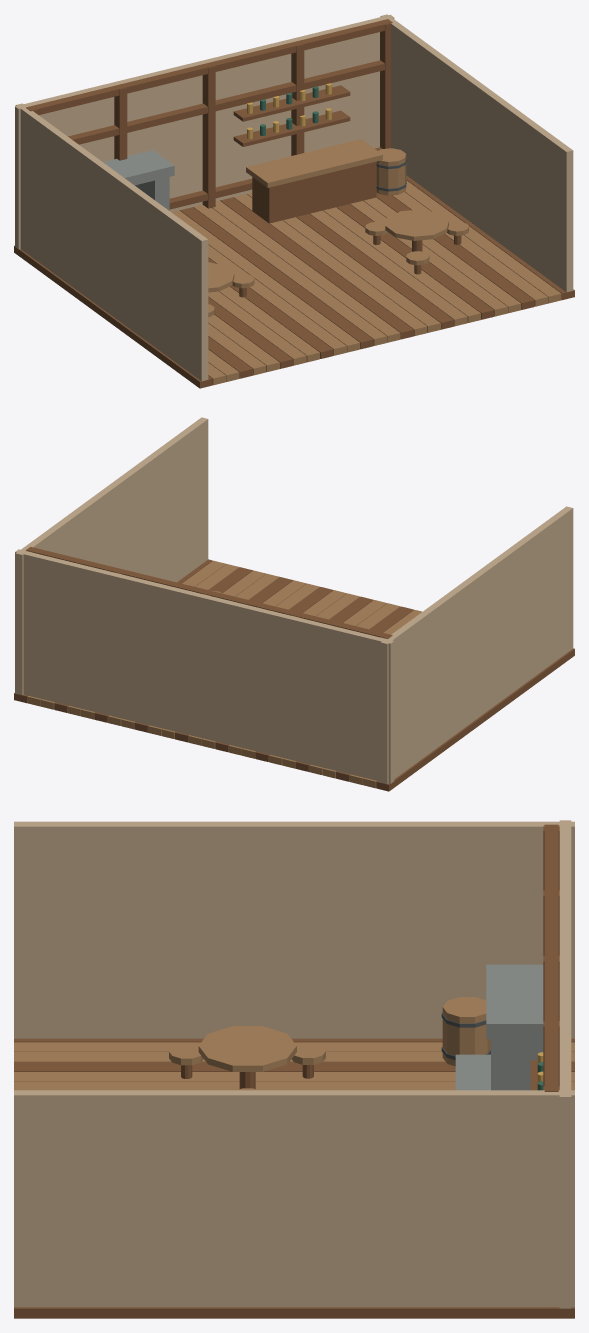
The model's file is tavern.glb.
3 renders of one model, top to bottom at view 1: azimuth 30°, elevation 25°; view 2: azimuth 150°, elevation 25°; view 3: azimuth 270°, elevation 25°, orthographic. The views are drawn at different scales.
Parts seen in each view (by area): view 1: Side wall.004, Side wall.005, Back plaster.002, Bar.002, Wall beam.008, Wall beam.007, Bar counter.002, Floor plank.068, Floor plank.071, Floor plank.069, Floor plank.070, Floor plank.067 (+33 smaller); view 2: Back plaster.002, Side wall.004, Side wall.005, Wall beam.008, Floor plank.056, Floor plank.069, Floor plank.081, Floor plank.072, Floor plank.075, Floor plank.078, Floor plank.068, Floor plank.074 (+8 smaller); view 3: Side wall.005, Side wall.004, Floor plank.083, Back plaster.002, Mantel.002, Floor plank.061, Floor plank.060, Wall beam.008, Round table.004, Floor plank.059, Floor plank.057, Floor plank.058 (+4 smaller).
Boxes of the visible parts, <box> form: Side wall.004: <box>15,103,208,381</box>; Side wall.005: <box>380,14,573,292</box>; Back plaster.002: <box>15,14,394,249</box>; Bar.002: <box>252,161,376,223</box>; Wall beam.008: <box>26,19,392,114</box>; Wall beam.007: <box>68,60,384,144</box>; Bar counter.002: <box>246,139,382,187</box>; Floor plank.068: <box>180,207,373,349</box>; Floor plank.071: <box>220,197,413,339</box>; Floor plank.069: <box>193,204,387,345</box>; Floor plank.070: <box>212,200,400,342</box>; Floor plank.067: <box>172,210,360,352</box>; Back plaster.002: <box>15,549,394,783</box>; Side wall.004: <box>380,506,573,784</box>; Side wall.005: <box>15,417,208,695</box>; Wall beam.008: <box>26,547,392,638</box>; Floor plank.056: <box>376,648,574,791</box>; Floor plank.069: <box>201,603,400,748</box>; Floor plank.081: <box>40,564,239,709</box>; Floor plank.072: <box>161,593,360,739</box>; Floor plank.075: <box>121,583,319,729</box>; Floor plank.078: <box>81,573,279,719</box>; Floor plank.068: <box>215,606,413,752</box>; Floor plank.074: <box>134,587,333,732</box>; Side wall.005: <box>14,1090,574,1307</box>; Side wall.004: <box>14,821,574,1038</box>; Floor plank.083: <box>14,1307,574,1318</box>; Back plaster.002: <box>559,820,571,1308</box>; Mantel.002: <box>486,964,543,1038</box>; Floor plank.061: <box>14,1081,574,1090</box>; Floor plank.060: <box>14,1072,574,1081</box>; Wall beam.008: <box>544,824,558,1091</box>; Round table.004: <box>198,1026,296,1071</box>; Floor plank.059: <box>14,1062,574,1071</box>; Floor plank.057: <box>14,1042,574,1051</box>; Floor plank.058: <box>14,1052,574,1061</box>.
Bounding box in the file's own units: 14 × 5.26 × 12.
